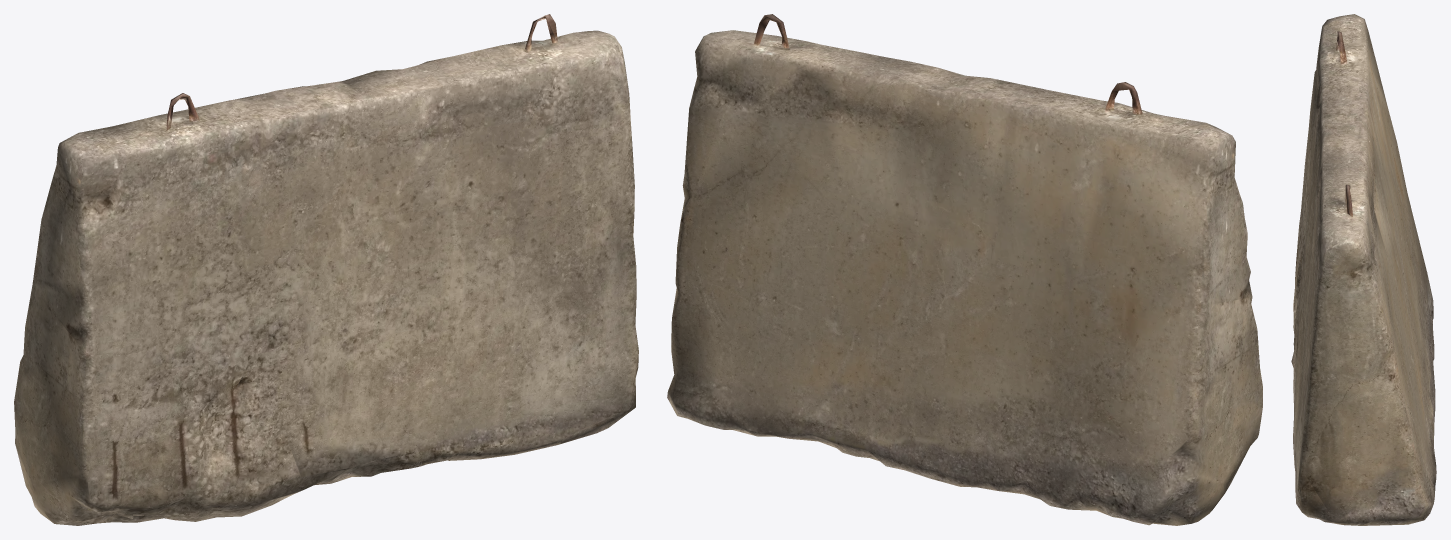
File: barrierTall.glb
The picture shows the model from 3 angles, left to right: view 1: azimuth 30°, elevation 25°; view 2: azimuth 150°, elevation 25°; view 3: azimuth 270°, elevation 25°; orthographic projection. The views are drawn at different scales.
Visible parts, largest first — view 1: concrete_road_barrier_02; view 2: concrete_road_barrier_02; view 3: concrete_road_barrier_02.
Boxes of the visible parts, x1,y1,x2,y2 form: concrete_road_barrier_02: (14, 14, 638, 525); concrete_road_barrier_02: (667, 14, 1262, 525); concrete_road_barrier_02: (1291, 14, 1436, 525).
Size of the model in its own units: 1.56 by 1.11 by 0.4413.
1 material, 1 textured.
